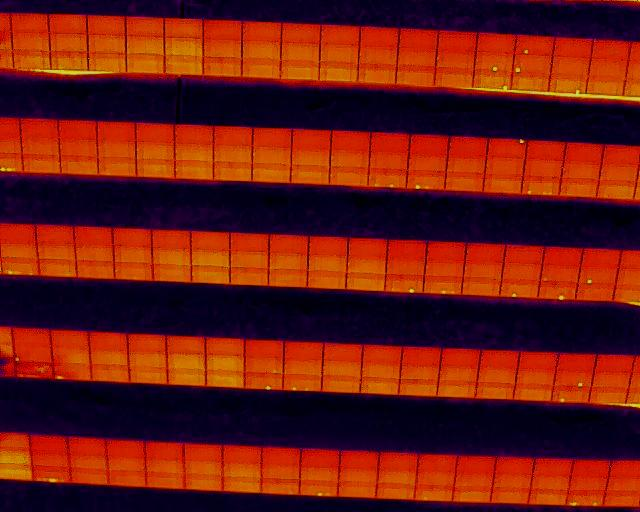Cell: (500, 279, 539, 299), (513, 54, 552, 74), (514, 36, 553, 56), (475, 52, 513, 72), (489, 139, 527, 159), (549, 74, 587, 93), (13, 346, 52, 364), (555, 370, 594, 388), (538, 282, 576, 300), (474, 72, 512, 90), (385, 275, 422, 293), (52, 364, 91, 381), (542, 266, 579, 283), (578, 267, 617, 283), (245, 357, 284, 373), (416, 486, 453, 502), (245, 373, 282, 389), (551, 387, 590, 401)
Cell-Multi: (423, 276, 462, 294), (368, 170, 406, 187), (14, 363, 52, 380), (0, 260, 40, 276), (301, 480, 340, 496), (406, 173, 445, 189), (33, 466, 71, 482), (521, 179, 559, 195), (567, 491, 604, 507), (283, 375, 322, 390)
No-Anomaly: (345, 271, 387, 291), (524, 159, 563, 180), (87, 14, 126, 34), (243, 22, 282, 42), (253, 128, 292, 148), (485, 157, 524, 177), (175, 161, 214, 181), (291, 165, 330, 185), (49, 14, 88, 34), (88, 34, 127, 54), (345, 256, 386, 275), (528, 141, 565, 162), (387, 239, 427, 258), (543, 246, 581, 266), (127, 16, 165, 36), (12, 50, 52, 69), (448, 138, 488, 157), (10, 12, 48, 32), (554, 38, 592, 58), (503, 263, 542, 282), (203, 21, 242, 40), (320, 25, 359, 44), (550, 57, 589, 76), (565, 144, 604, 163), (446, 157, 485, 176), (97, 158, 136, 177), (136, 160, 175, 179), (438, 381, 477, 400), (477, 33, 514, 53), (465, 242, 503, 261), (165, 18, 203, 37), (282, 24, 320, 43), (592, 41, 630, 60), (436, 50, 474, 69), (204, 58, 242, 77), (436, 68, 474, 87), (511, 74, 549, 93), (21, 120, 59, 139), (136, 123, 174, 142), (292, 130, 330, 149), (560, 178, 598, 197), (165, 38, 203, 57), (461, 277, 501, 295), (358, 48, 398, 66), (213, 146, 253, 164), (439, 367, 479, 385), (0, 224, 37, 243), (191, 232, 230, 250), (426, 242, 465, 260), (504, 246, 543, 264), (114, 246, 153, 264), (581, 249, 620, 267), (39, 259, 78, 277), (115, 263, 154, 281), (191, 265, 230, 283), (204, 40, 243, 58), (127, 54, 166, 72), (165, 56, 204, 74), (397, 67, 436, 85), (97, 123, 136, 141), (175, 126, 214, 144), (214, 128, 253, 146), (331, 132, 370, 150), (410, 137, 449, 155), (253, 148, 292, 166), (330, 169, 369, 187), (399, 30, 438, 48), (113, 228, 152, 246), (270, 235, 308, 253), (153, 264, 191, 282), (230, 267, 268, 285), (377, 483, 415, 501), (282, 44, 320, 62), (88, 54, 126, 72), (371, 135, 409, 153), (175, 144, 213, 162), (360, 28, 398, 46), (206, 370, 244, 388), (438, 32, 476, 50), (12, 32, 50, 50), (50, 34, 88, 52), (127, 36, 165, 54), (519, 352, 557, 370), (36, 225, 74, 243), (369, 152, 407, 170), (385, 258, 425, 275), (363, 346, 403, 363), (222, 446, 262, 463), (77, 260, 114, 278), (307, 271, 344, 289), (321, 45, 358, 63), (587, 77, 624, 95), (403, 347, 440, 365), (598, 181, 635, 199), (515, 385, 552, 403), (152, 232, 191, 249), (230, 234, 269, 251), (309, 238, 348, 255), (75, 245, 114, 262), (191, 250, 230, 267), (308, 256, 347, 273), (464, 260, 503, 277), (206, 339, 245, 356), (398, 49, 437, 66), (320, 64, 359, 81), (358, 67, 397, 84), (59, 123, 98, 140), (22, 139, 61, 156), (97, 141, 136, 158), (136, 142, 175, 159), (562, 162, 601, 179), (213, 165, 252, 182), (595, 354, 634, 371), (284, 358, 323, 375), (129, 367, 168, 384), (361, 377, 400, 394), (475, 384, 514, 401), (480, 352, 519, 369), (408, 155, 447, 172), (330, 151, 369, 168), (291, 150, 330, 167), (61, 157, 97, 175), (603, 145, 639, 163), (269, 270, 307, 287), (89, 334, 127, 351), (109, 470, 147, 487), (243, 42, 281, 59), (243, 60, 281, 77), (51, 52, 89, 69), (59, 140, 97, 157), (22, 156, 60, 173), (252, 166, 290, 183), (446, 175, 484, 192), (484, 177, 522, 194), (206, 355, 244, 372), (91, 366, 129, 383), (323, 376, 361, 393), (400, 379, 438, 396), (107, 440, 145, 457), (74, 227, 112, 244), (166, 338, 206, 354), (167, 370, 207, 386), (282, 61, 319, 78), (589, 59, 626, 76), (557, 353, 594, 370), (601, 163, 638, 180), (441, 351, 478, 368), (0, 243, 39, 259), (38, 244, 77, 260), (152, 249, 191, 265), (230, 252, 269, 268), (575, 283, 614, 299), (245, 341, 284, 357), (528, 489, 567, 505), (52, 350, 91, 366), (89, 351, 128, 367), (378, 469, 417, 485), (167, 354, 206, 370), (323, 361, 362, 377), (379, 453, 418, 469), (418, 455, 457, 471), (269, 254, 307, 270), (51, 334, 89, 350), (323, 345, 361, 361), (417, 471, 455, 487), (570, 475, 608, 491), (516, 370, 554, 386), (146, 443, 184, 459), (127, 338, 167, 353), (223, 477, 263, 492), (361, 364, 401, 379), (426, 260, 463, 276), (339, 482, 376, 498), (593, 372, 630, 388), (457, 456, 494, 472), (348, 241, 387, 256), (12, 330, 51, 345), (284, 343, 323, 358), (223, 463, 262, 478), (339, 452, 378, 467), (146, 459, 185, 474), (146, 474, 184, 489), (531, 474, 569, 489), (185, 475, 223, 490), (339, 467, 377, 482), (479, 369, 517, 384), (590, 387, 628, 402), (32, 436, 70, 451), (263, 449, 301, 464), (108, 457, 146, 472), (495, 459, 533, 474), (401, 365, 439, 380), (456, 473, 493, 488), (263, 479, 300, 494), (72, 470, 109, 485), (69, 438, 106, 453), (70, 454, 107, 469), (572, 460, 609, 475), (493, 475, 532, 489), (261, 465, 300, 479), (127, 353, 166, 367), (453, 488, 491, 502), (32, 451, 70, 465), (301, 452, 339, 466), (185, 446, 222, 460), (300, 467, 339, 480), (492, 489, 530, 502), (533, 460, 571, 473), (185, 462, 222, 475)
